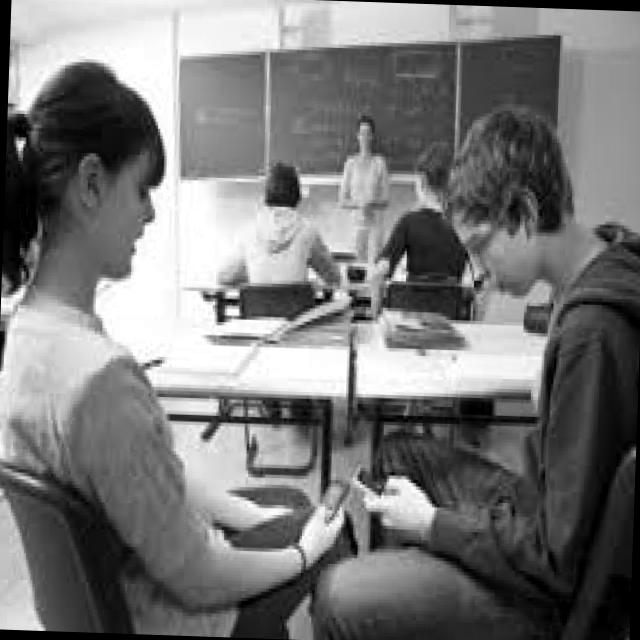phone: (321, 476, 352, 524), (352, 464, 384, 502)
